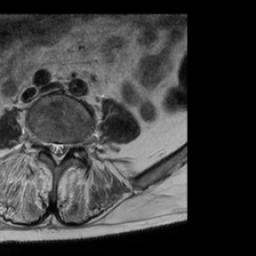CCS_normal: (54, 136, 61, 169)
LFS_severe_stenosis: (70, 138, 77, 158)
LLS_normal: (62, 137, 69, 161)
RFS_stenosis: (43, 136, 50, 153)
RLS_normal: (50, 136, 55, 161)
